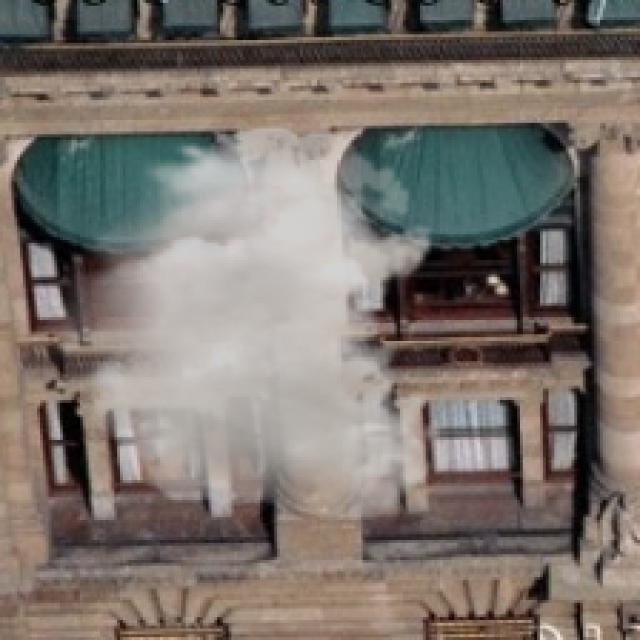Smoke: (31, 126, 448, 523)
